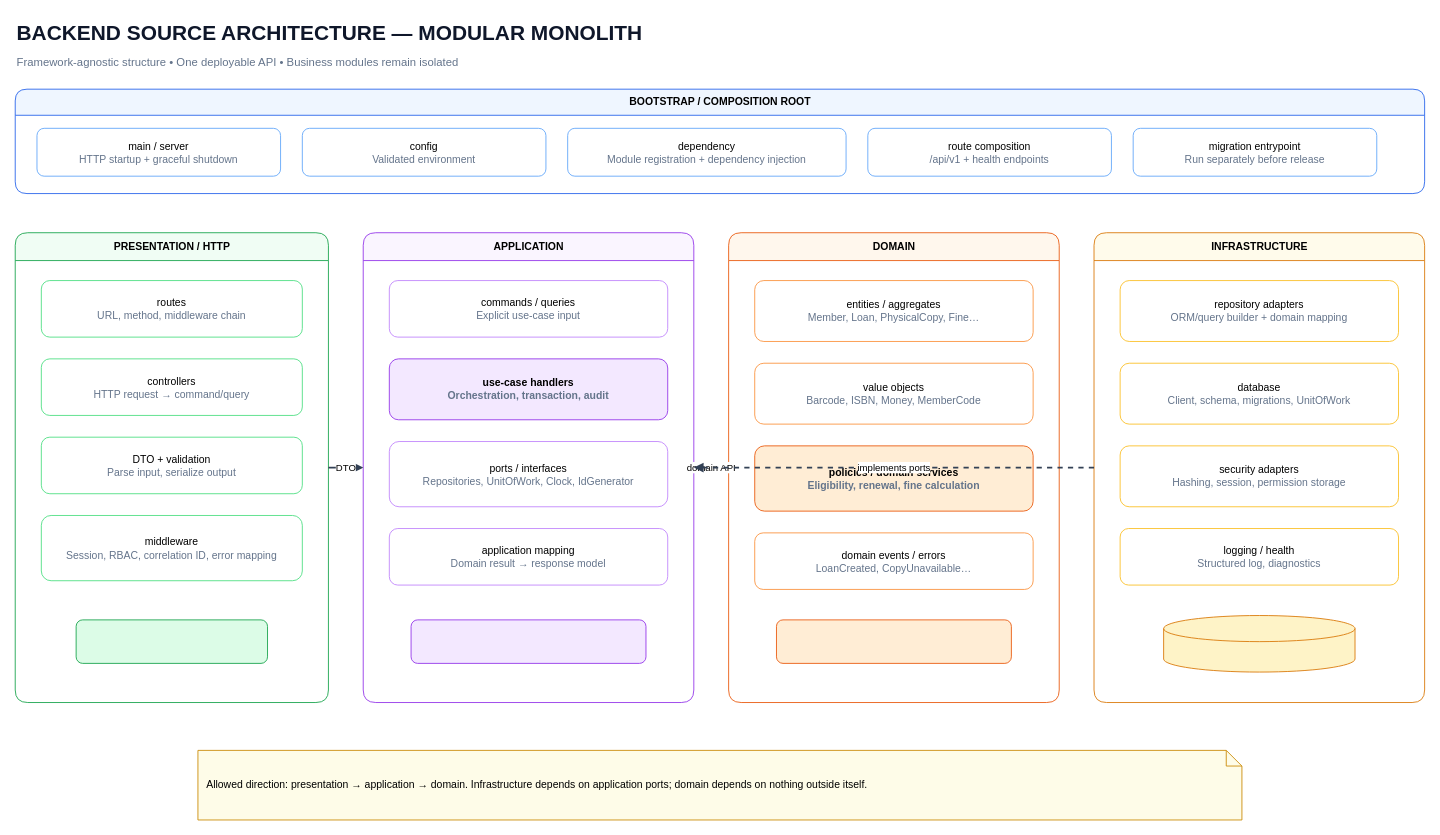
This 1440x835 diagram has some shape labels left out. Each missing label, with the centre of its shape:
"No business logic" goes at [171,641].
"No framework, HTTP or ORM imports" goes at [893,641].
"One use case = one transaction boundary" goes at [528,641].
"PostgreSQL" goes at [1259,643].
